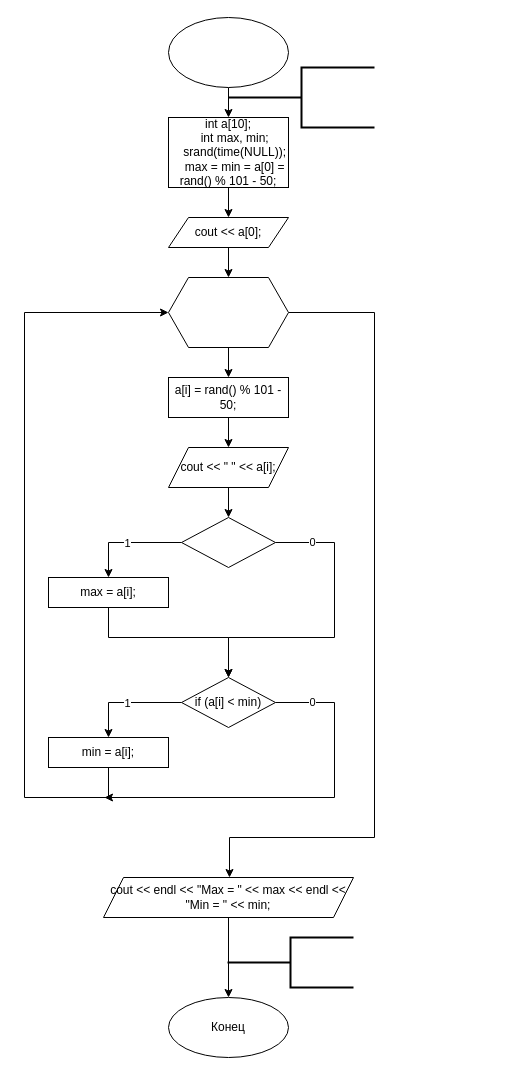
Some shapes in this 511 by 1075 pixel diagram are drawn without their labels. Each missing label, with the centre of its shape:
"#include <cmath> #include <iostream> using namespace std; int main() {" goes at point 301,97.
"for (int i = 1; i <= 9; i++)" goes at point 228,312.
"if (a[i] > max)" goes at point 228,542.
"return 0; }" goes at point 290,962.
"Запуск" goes at point 228,52.
